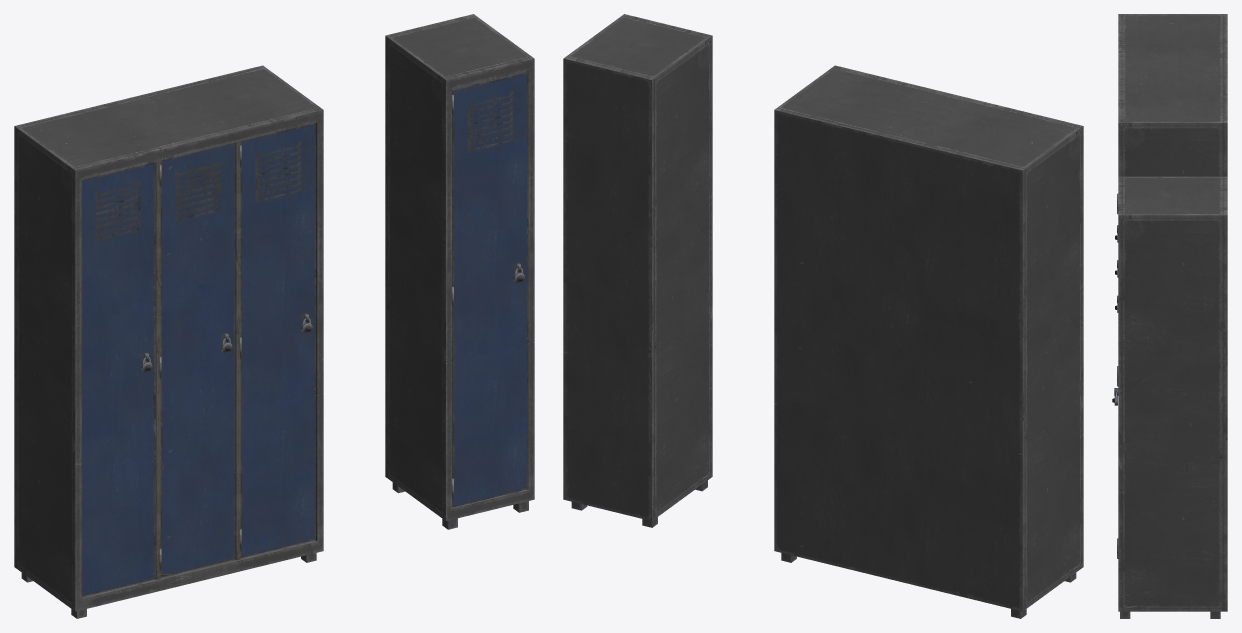
File: locker.glb
3 views of the same model, side by side, from view 1: azimuth 30°, elevation 25°; view 2: azimuth 150°, elevation 25°; view 3: azimuth 270°, elevation 25° (orthographic). The views are drawn at different scales.
Parts seen in each view (by area): view 1: locker_final.004; view 2: locker_final.004; view 3: locker_final.004.
Part boxes in pixels (bbox=[...]): locker_final.004: bbox=[14, 14, 534, 618]; locker_final.004: bbox=[563, 14, 1083, 618]; locker_final.004: bbox=[1112, 14, 1227, 618].
Bounding box in the file's own units: 218 × 205 × 52.69.
1 material, 1 textured.
